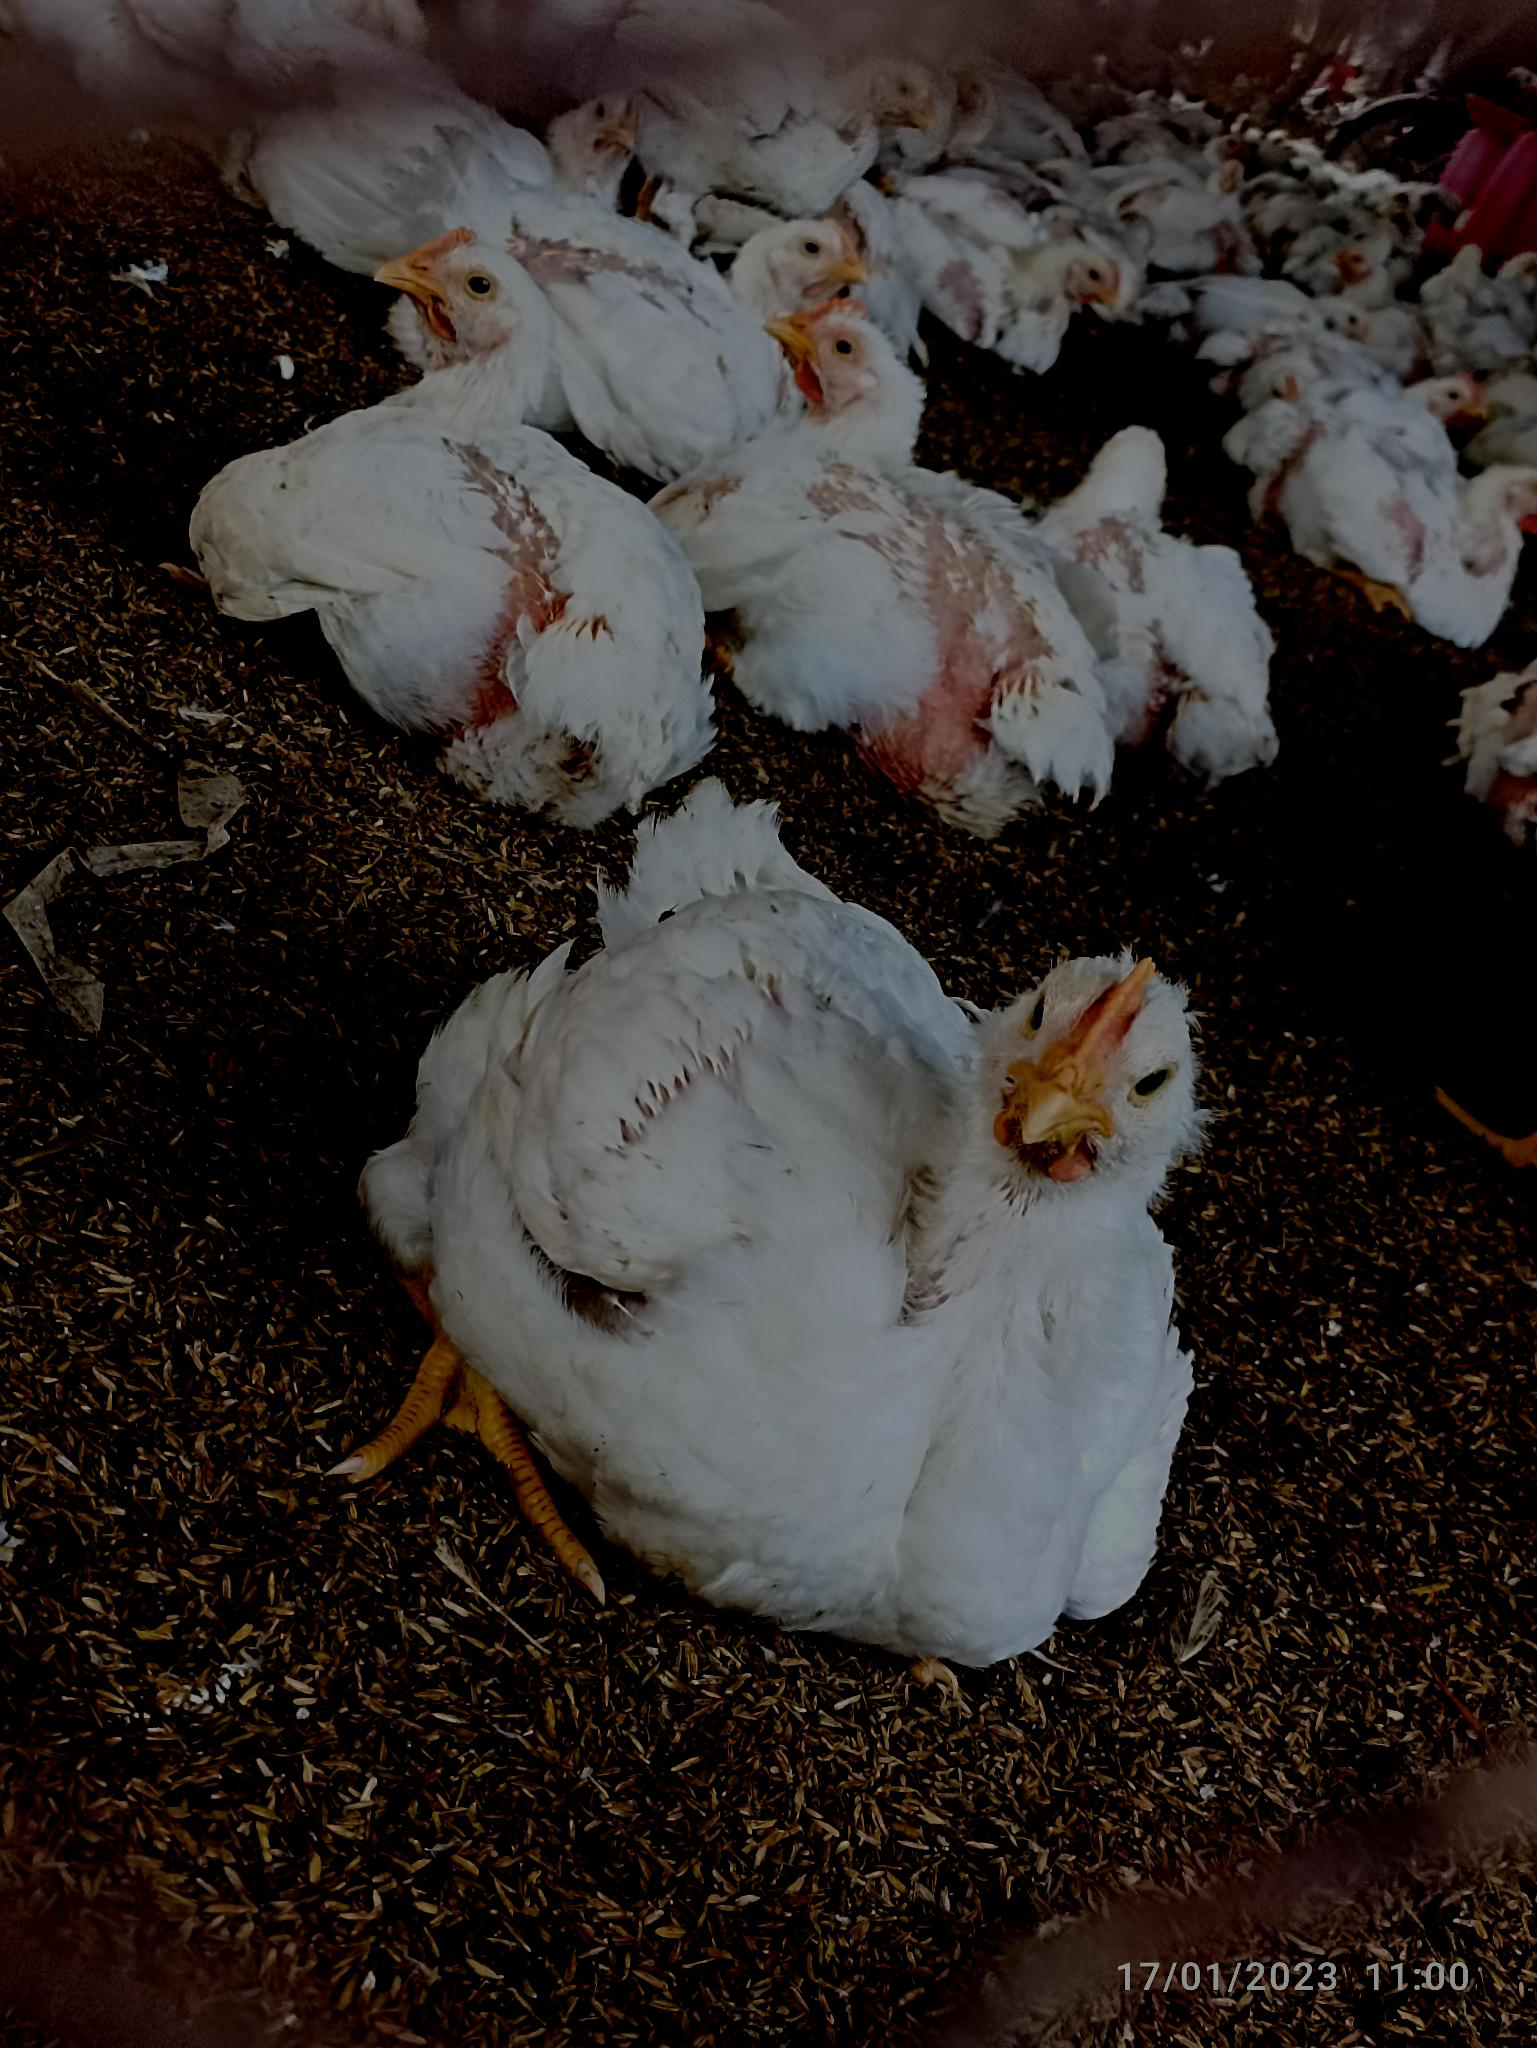Pollos: (428, 791, 1211, 1645), (220, 224, 725, 791), (662, 332, 1083, 757), (1006, 416, 1266, 773), (1274, 386, 1526, 646), (891, 187, 1137, 373), (559, 202, 865, 342)
